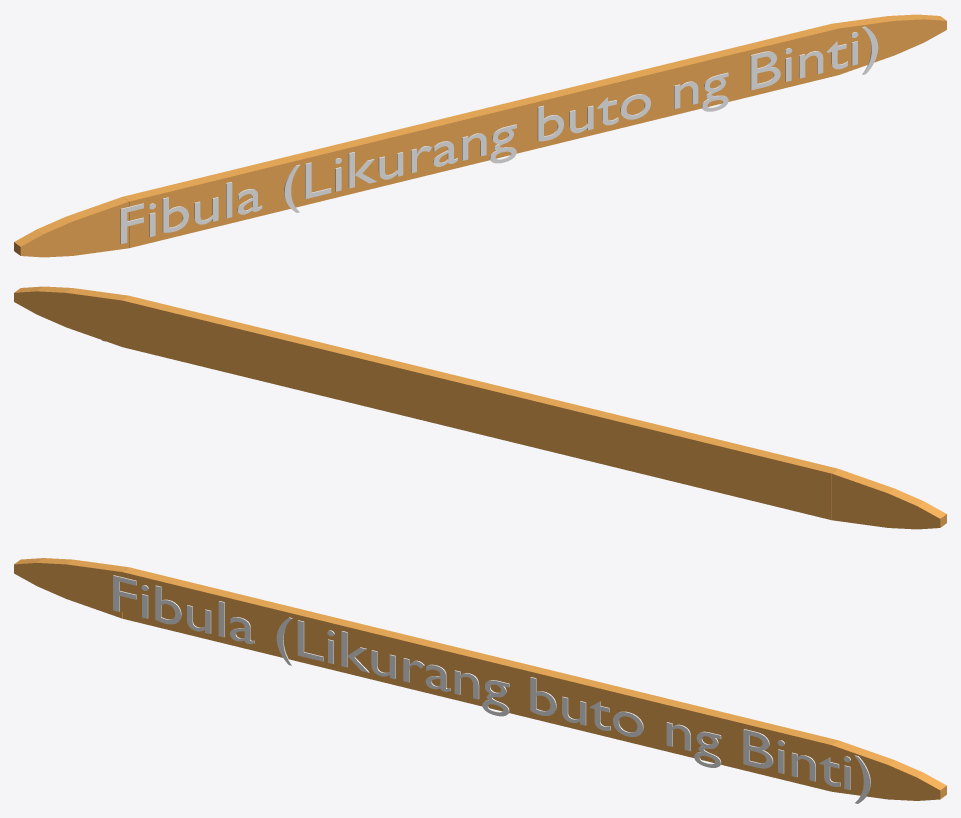
Rendered from txtFibula.fbx.
The picture shows the model from 3 angles, top to bottom: view 1: azimuth 30°, elevation 25°; view 2: azimuth 150°, elevation 25°; view 3: azimuth 330°, elevation 25°; orthographic projection.
Visible parts, largest first — view 1: TagContainer.055, Text.056; view 2: TagContainer.055; view 3: TagContainer.055, Text.056.
Part boxes in pixels (<box>): TagContainer.055: <box>14,14,946,257</box>; Text.056: <box>120,26,878,243</box>; TagContainer.055: <box>14,286,946,529</box>; TagContainer.055: <box>14,558,946,800</box>; Text.056: <box>113,575,870,803</box>.
Size of the model in its own units: 859 by 45.81 by 11.79.
